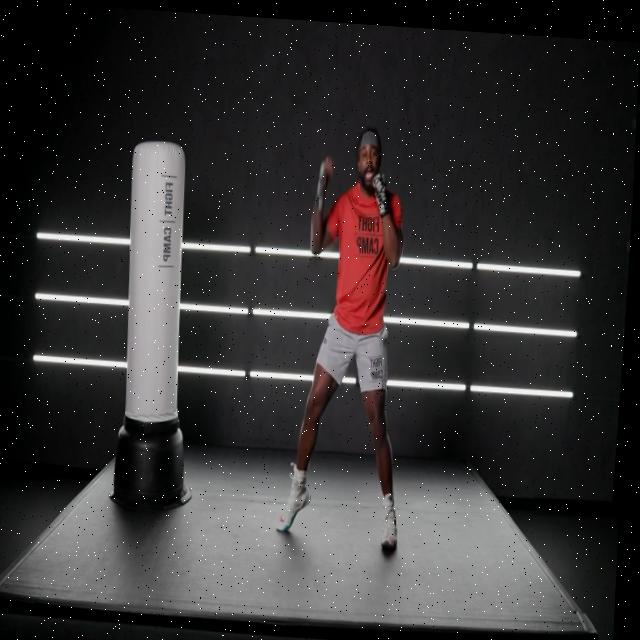Uppercut: (302, 139, 411, 335)
